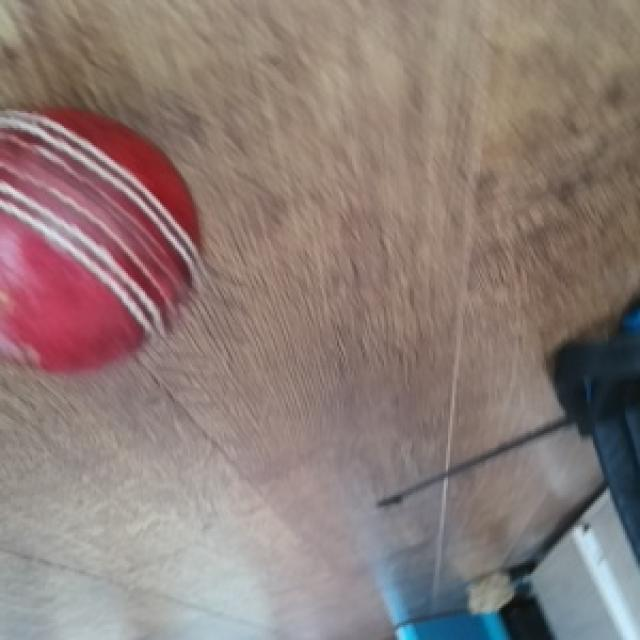ball: (0, 107, 205, 375)
